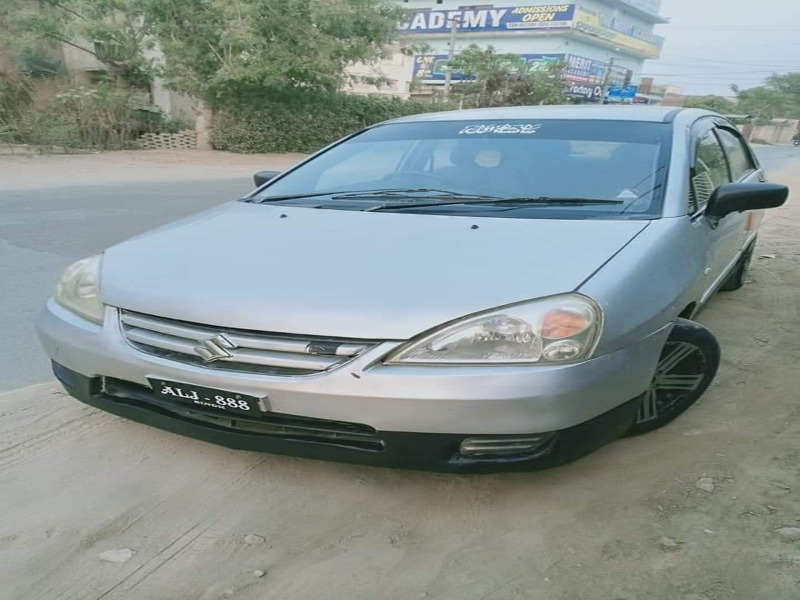License Plate: (145, 372, 272, 422)
